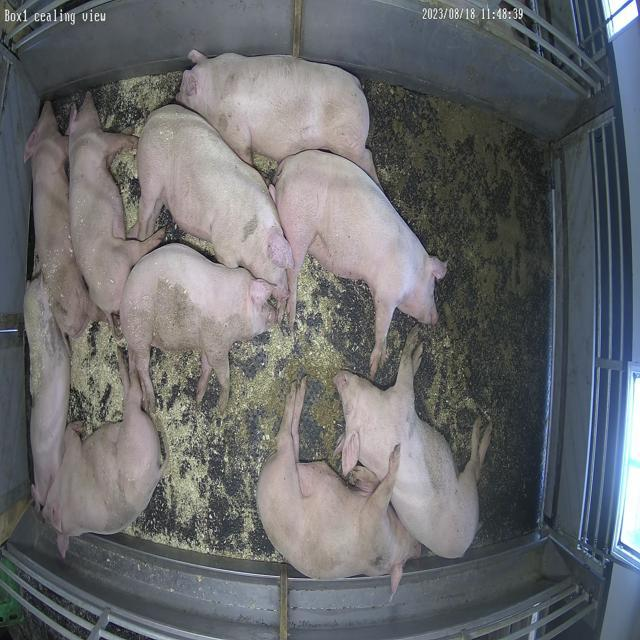Dirt: (366, 81, 552, 546), (253, 365, 345, 468)
Pig: (275, 151, 448, 378), (335, 329, 493, 560), (257, 380, 422, 594), (137, 104, 293, 296), (177, 49, 379, 182), (120, 244, 276, 412), (67, 93, 165, 324), (43, 377, 160, 556), (24, 101, 97, 338), (23, 275, 70, 507)
